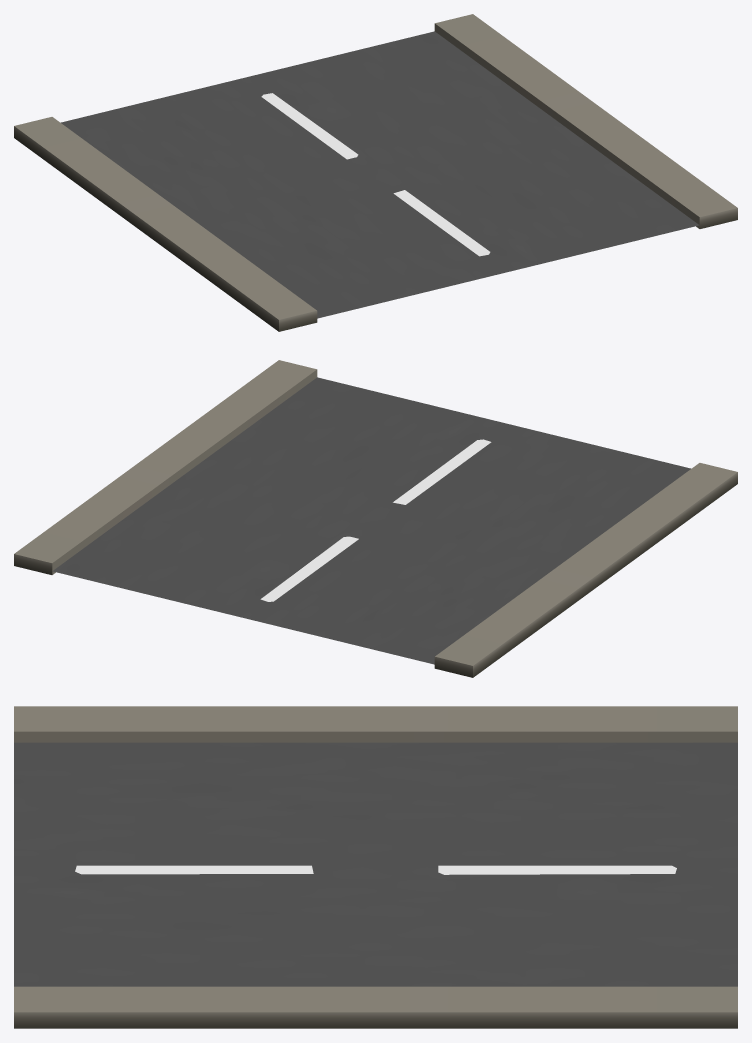
The picture shows the model from 3 angles, top to bottom: view 1: azimuth 30°, elevation 25°; view 2: azimuth 150°, elevation 25°; view 3: azimuth 270°, elevation 25°; orthographic projection. The views are drawn at different scales.
Visible parts, largest first — view 1: Road_1A; view 2: Road_1A; view 3: Road_1A.
Part boxes in pixels (box(x1,y1,x2,y2)): Road_1A: box(14, 14, 737, 331); Road_1A: box(14, 360, 737, 677); Road_1A: box(14, 706, 737, 1028).
Size of the model in its own units: 14949 by 374 by 14949.
